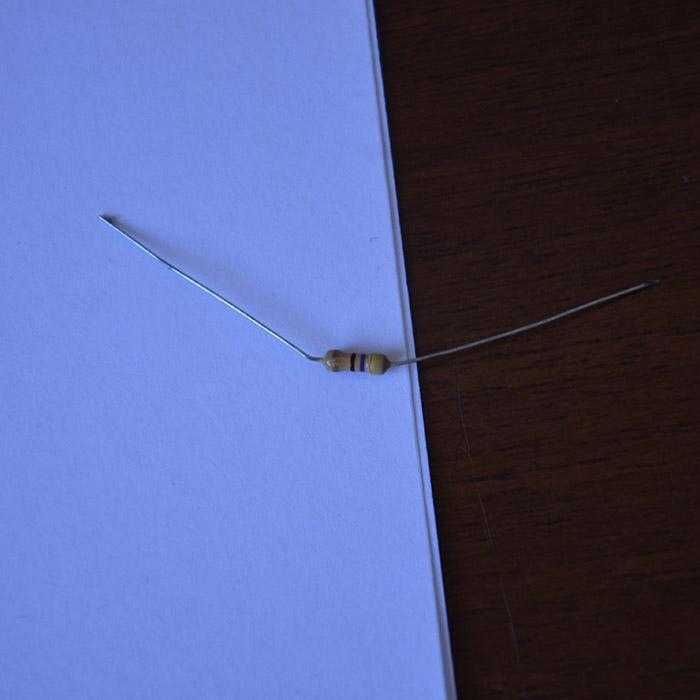resistor: (322, 348, 390, 376)
